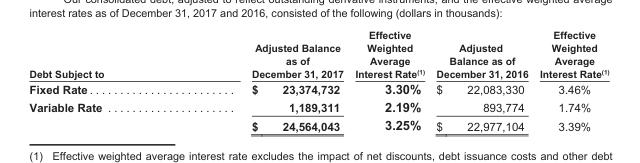table: (28, 29, 608, 132)
table column: (177, 29, 348, 132), (28, 29, 177, 132), (429, 29, 533, 132), (348, 29, 429, 132), (533, 29, 608, 132)
table column header: (28, 29, 608, 80)
table row: (28, 29, 608, 80), (28, 97, 608, 115), (28, 80, 608, 97), (28, 115, 608, 132)
